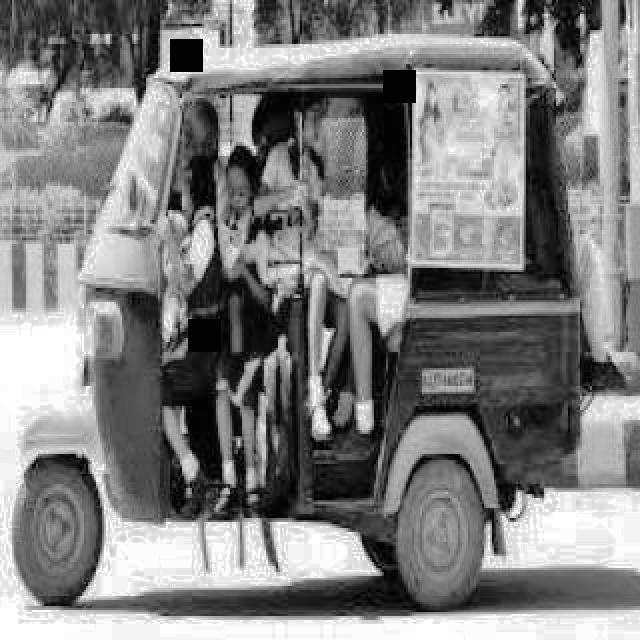Auto-Rickshaw: (62, 40, 600, 588)
